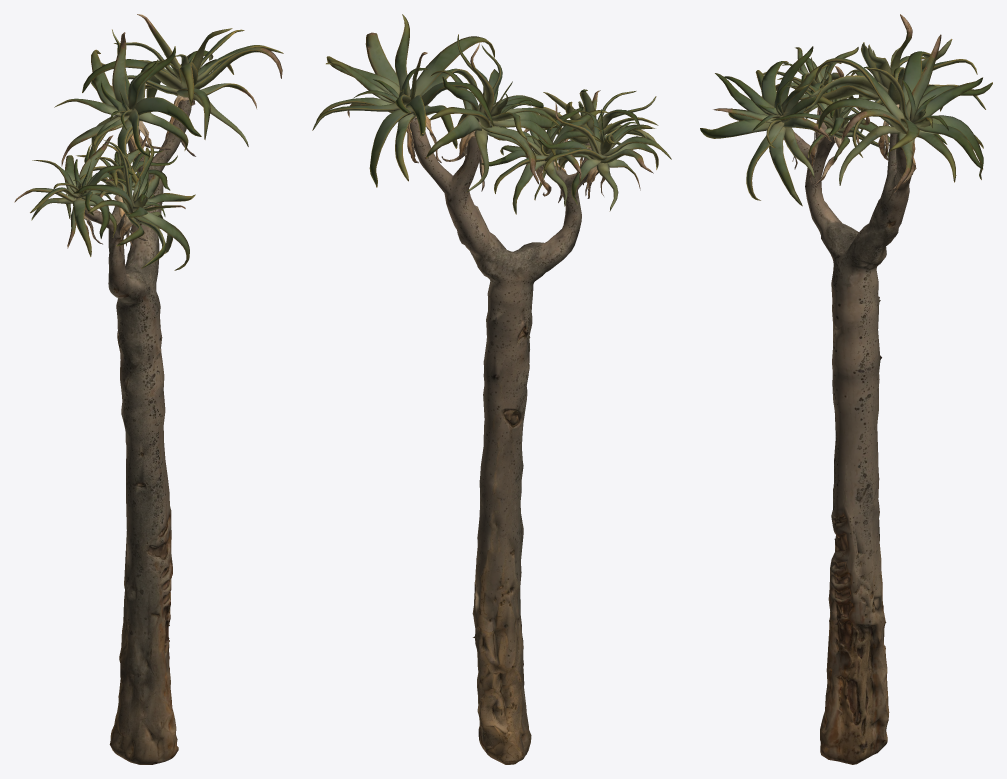
Rendered from quiver_tree_01.glb.
The picture shows the model from 3 angles, left to right: view 1: azimuth 30°, elevation 25°; view 2: azimuth 150°, elevation 25°; view 3: azimuth 270°, elevation 25°; orthographic projection. The views are drawn at different scales.
Visible parts, largest first — view 1: quiver_tree_01; view 2: quiver_tree_01; view 3: quiver_tree_01.
Part boxes in pixels (bbox=[...]): quiver_tree_01: bbox=[14, 14, 283, 764]; quiver_tree_01: bbox=[312, 14, 671, 764]; quiver_tree_01: bbox=[700, 14, 992, 764].
Bounding box in the file's own units: 1.18 × 2.72 × 0.9676.
2 materials, 2 textured.
